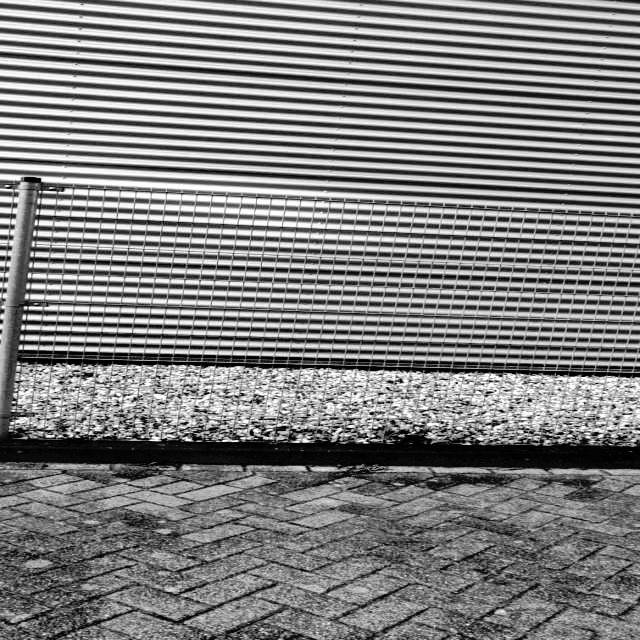fences: (23, 182, 640, 447)
